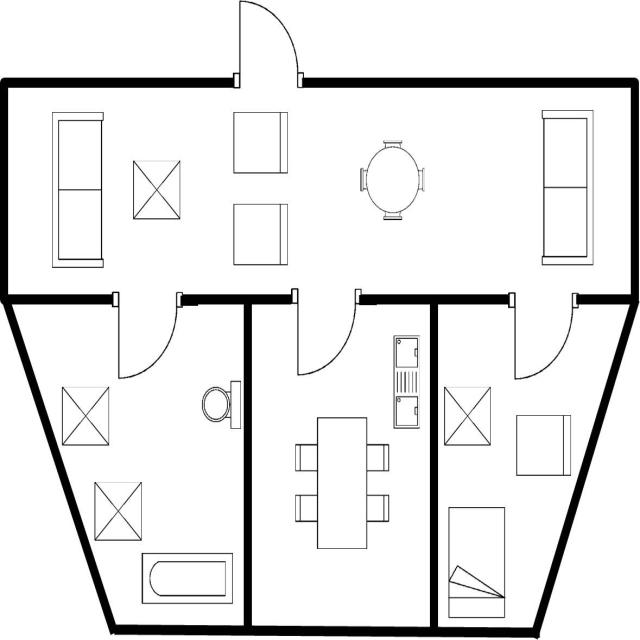bed: (442, 500, 508, 622)
coffee_table: (128, 153, 185, 225), (56, 383, 113, 450), (90, 477, 144, 544), (441, 381, 494, 449)
dining_table: (290, 411, 393, 556)
large_sink: (198, 376, 244, 433)
large_sofa: (537, 103, 598, 274), (47, 106, 109, 273)
round_table: (355, 136, 433, 226)
small_sofa: (509, 410, 575, 485), (227, 105, 292, 178), (228, 199, 293, 270)
tub: (137, 547, 237, 609)
twin_sink: (389, 331, 424, 432)
